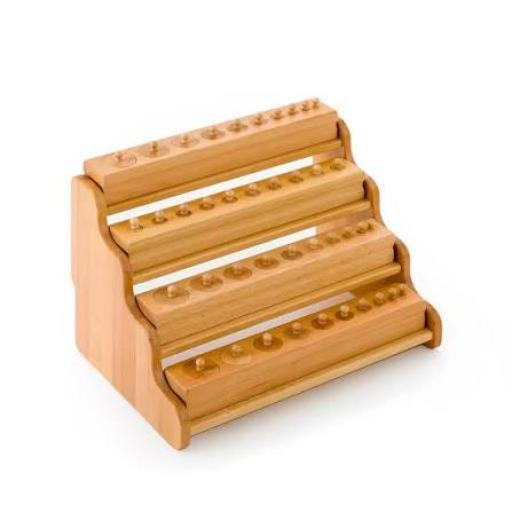knobbedcylinders: (66, 98, 444, 452)
